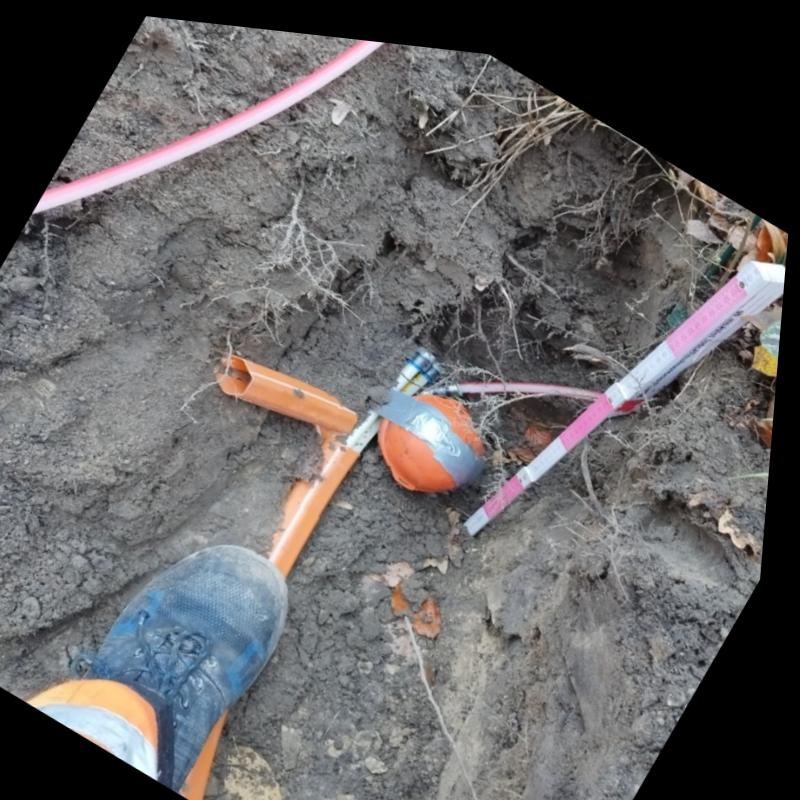Kugelmarker: (379, 389, 490, 482)
Orang-Speednetrohrchen: (277, 335, 472, 572)
